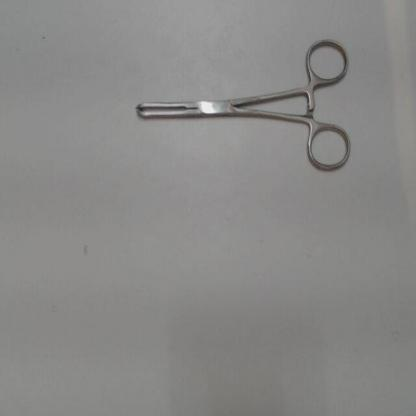Allis Tissue Forceps: (124, 37, 354, 184)
